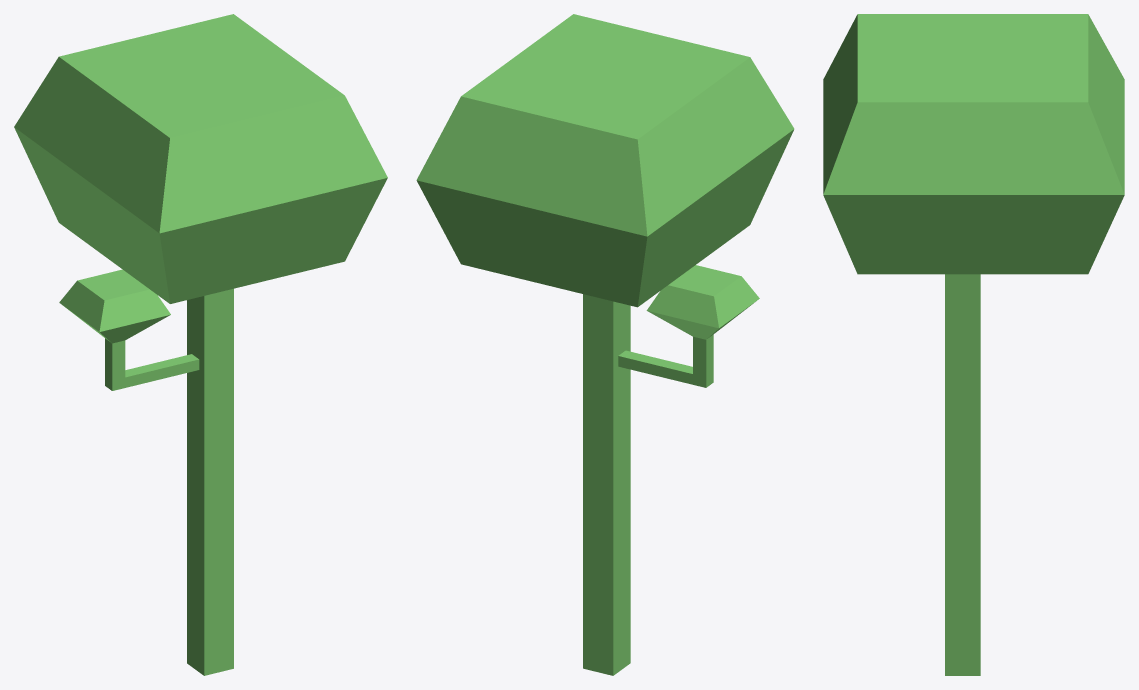
File: MassiveBullet_Tree_0.dae
3 views of the same model, side by side, from view 1: azimuth 30°, elevation 25°; view 2: azimuth 150°, elevation 25°; view 3: azimuth 270°, elevation 25° (orthographic). The views are drawn at different scales.
Visible parts, largest first — view 1: Cube; view 2: Cube; view 3: Cube.
Part boxes in pixels (x1=…): Cube: x1=14, y1=14, x2=387, y2=675; Cube: x1=416, y1=14, x2=794, y2=675; Cube: x1=823, y1=14, x2=1124, y2=675.
Size of the model in its own units: 6.45 by 6.74 by 15.01.
